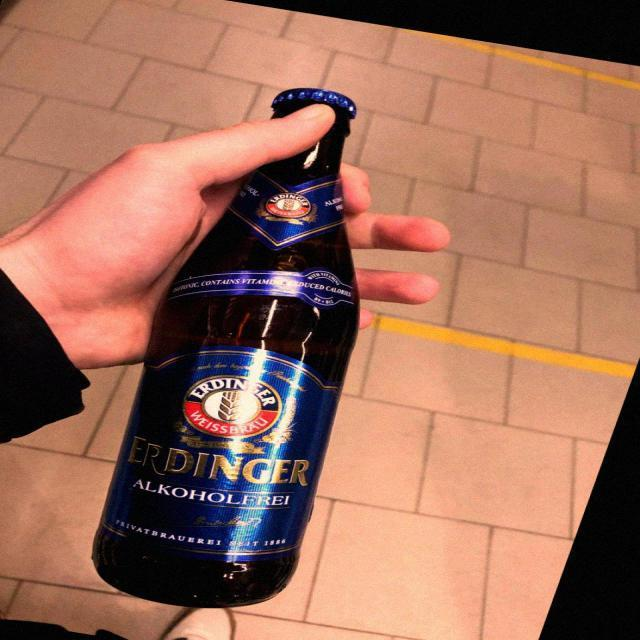Glass: (92, 87, 360, 608)
